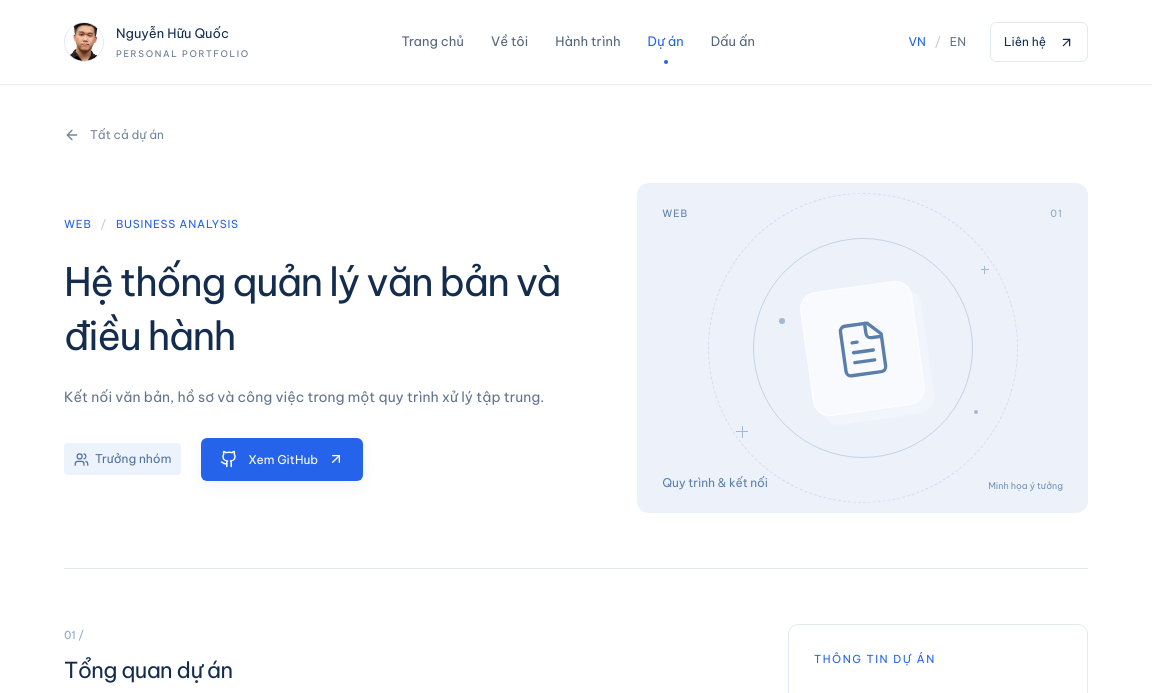
Scenario: case study routes and content authenticity › opens document-workflow with the confirmed role and real source link
Check: the heading "Hệ thống quản lý văn bản và điều hành" is shown, box [64,255,582,364]
Step 1. Click the button named "English" → x=958, y=42, box [948,22,968,62]
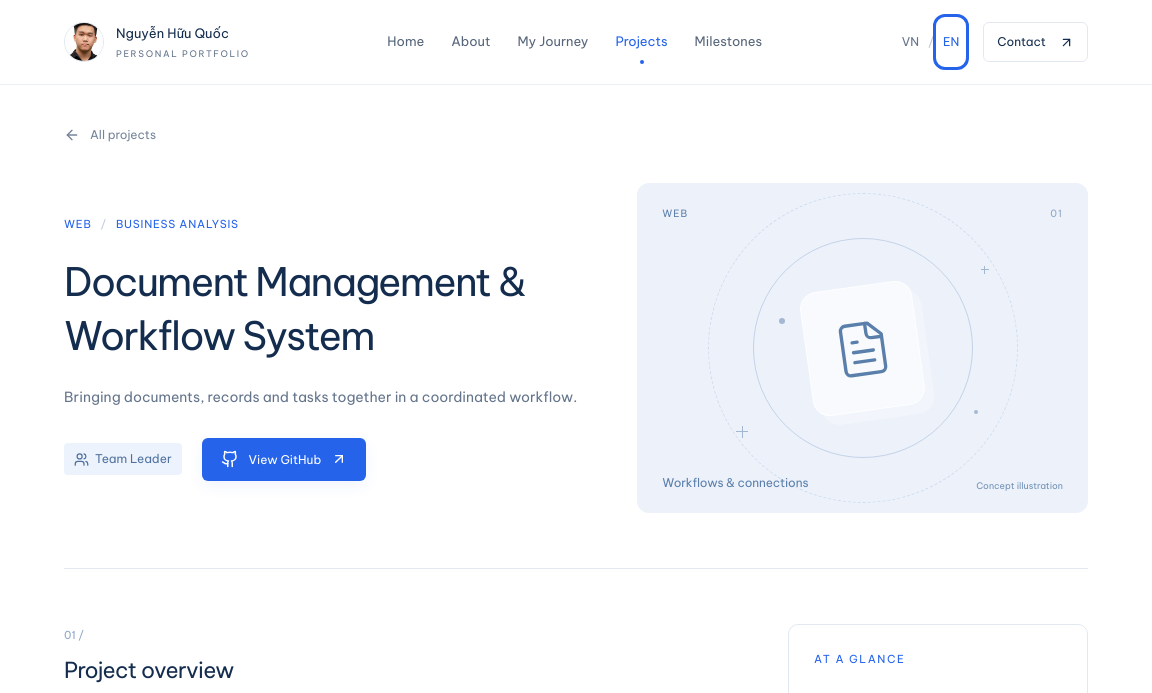
Check: the heading "Document Management & Workflow System" is shown, box [64,255,582,364]
Check: the heading "Project overview" is shown, box [64,656,234,684]
Check: the text "Team Leader" is shown, box [64,443,182,475]
